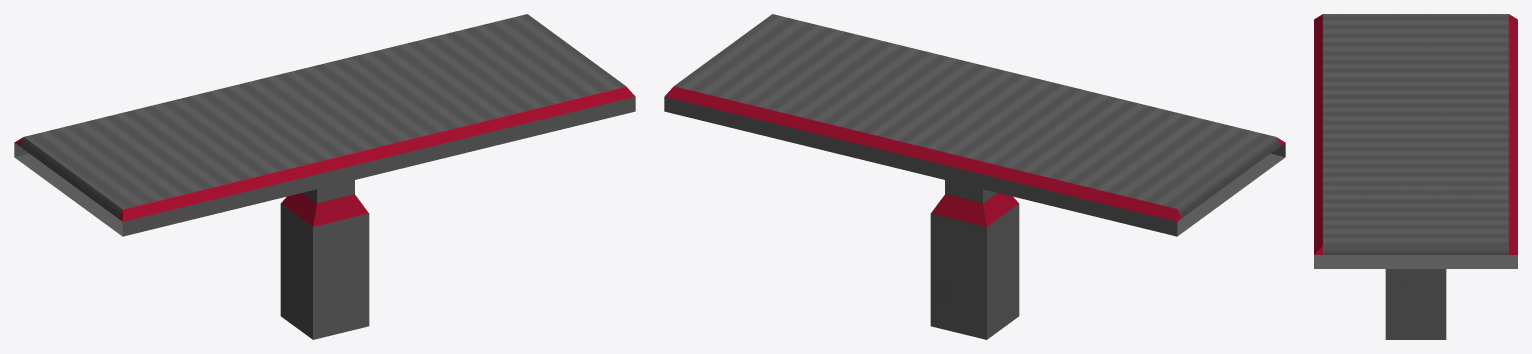
Rendered from assemblyline.fbx.
The picture shows the model from 3 angles, left to right: view 1: azimuth 30°, elevation 25°; view 2: azimuth 150°, elevation 25°; view 3: azimuth 270°, elevation 25°; orthographic projection. The views are drawn at different scales.
Parts seen in each view (by area): view 1: assembly_line; view 2: assembly_line; view 3: assembly_line.
Part boxes in pixels (x1,y1,x2,y2): assembly_line: (14, 14, 635, 339); assembly_line: (664, 14, 1285, 339); assembly_line: (1314, 14, 1517, 339).
Size of the model in its own units: 4.93 by 1.93 by 1.8.
